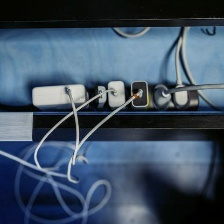three_eye_plug: (31, 80, 202, 113)
